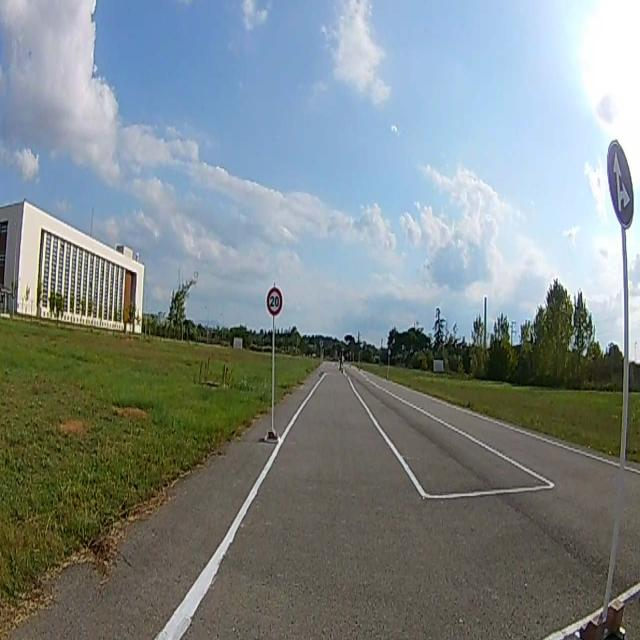20: (266, 286, 280, 316)
ilerisag: (608, 140, 634, 227)
